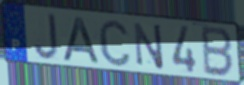4: (170, 23, 199, 75)
A: (61, 15, 102, 66)
B: (201, 24, 235, 80)
C: (97, 17, 133, 68)
J: (33, 12, 60, 62)
N: (132, 21, 166, 72)
